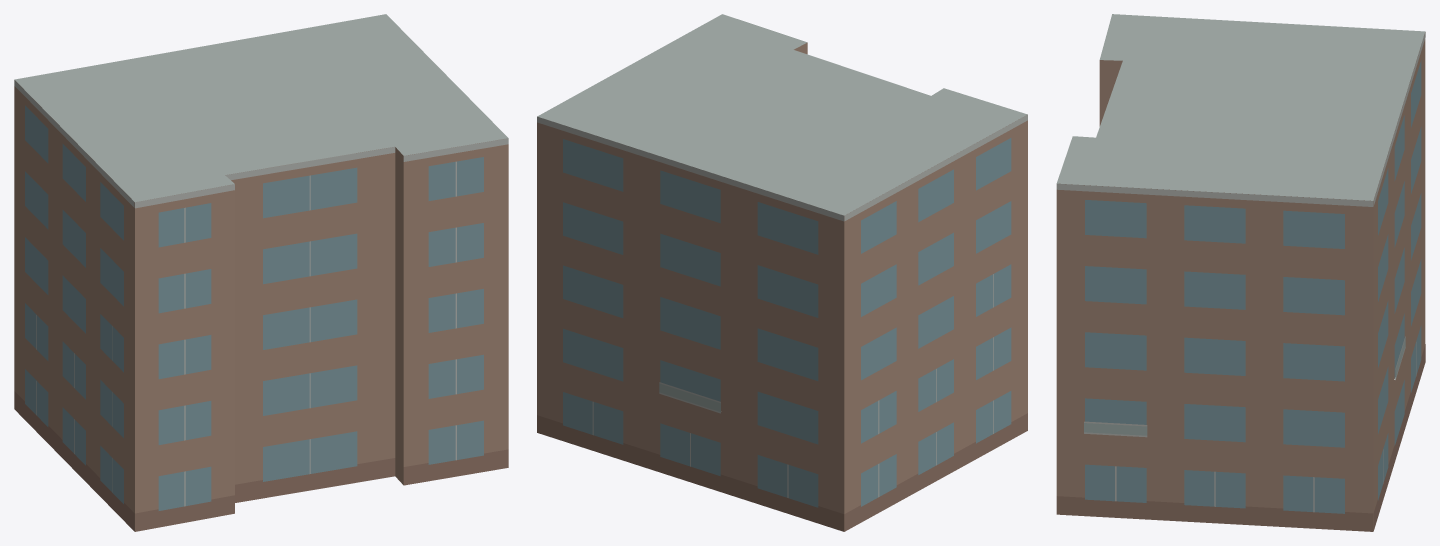
File: survey-upis-32603606.glb
3 views of the same model, side by side, from view 1: azimuth 30°, elevation 25°; view 2: azimuth 150°, elevation 25°; view 3: azimuth 270°, elevation 25° (orthographic). The views are drawn at different scales.
Visible parts, largest first — view 1: survey-upis-32603606.tmp; view 2: survey-upis-32603606.tmp; view 3: survey-upis-32603606.tmp.
Part boxes in pixels (x1,y1,x2,y2): survey-upis-32603606.tmp: (14,14,508,531); survey-upis-32603606.tmp: (537,14,1027,531); survey-upis-32603606.tmp: (1056,14,1425,531).
Size of the model in its own units: 15.88 by 13.1 by 13.24.
